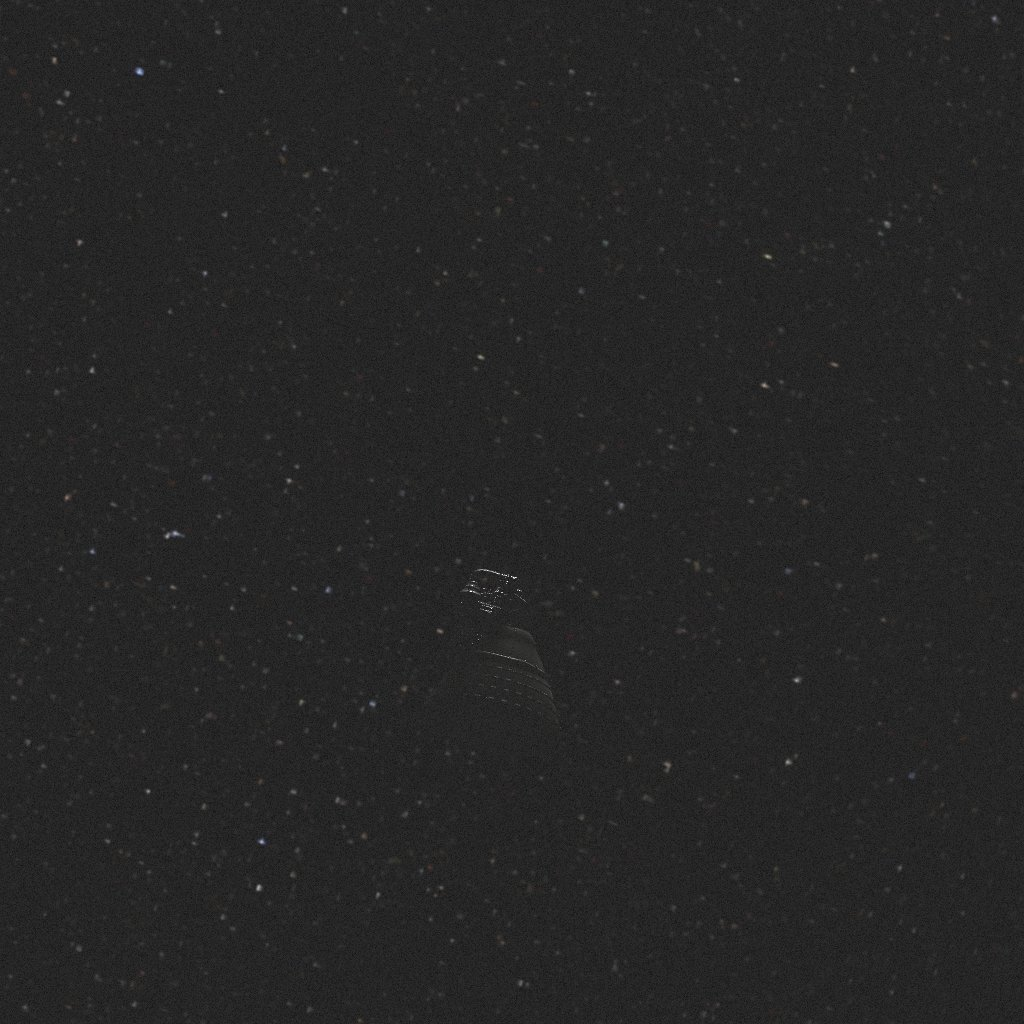debris: (419, 569, 563, 757)
